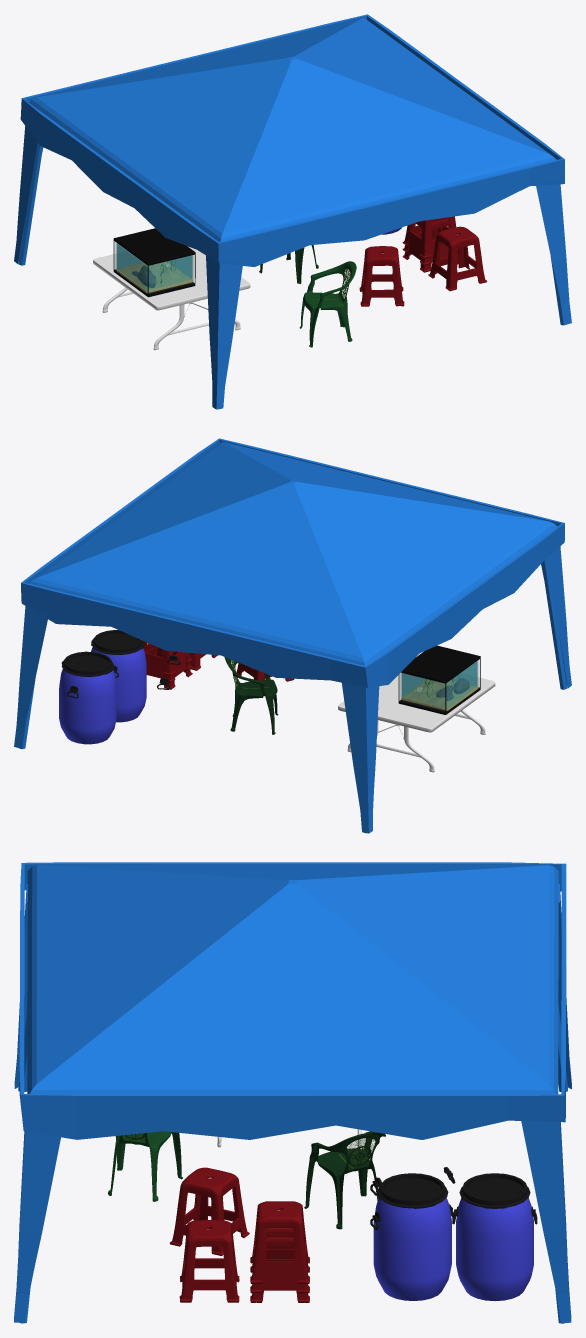
The model's file is kios-1.glb.
3 views of the same model, one above another, from view 1: azimuth 30°, elevation 25°; view 2: azimuth 150°, elevation 25°; view 3: azimuth 270°, elevation 25° (orthographic). The views are drawn at different scales.
Parts seen in each view (by area): view 1: Cube.001_0.007, defaultMaterial.159, Object_2.893, polySurface35_phongE1_0.020, polySurface35_phong1_0.020, polySurface35_phong2_0.020, Object_4.035, Object_2.892, polySurface35_lambert4_0.020, Object_2.894, Object_2.896; view 2: Cube.001_0.007, defaultMaterial.156, defaultMaterial.159, polySurface35_phongE1_0.020, polySurface35_phong1_0.020, defaultMaterial.147, polySurface35_phong2_0.020, Object_4.034, polySurface35_lambert4_0.020, defaultMaterial.158, defaultMaterial.145, Object_2.894; view 3: Cube.001_0.007, defaultMaterial.156, defaultMaterial.147, Object_2.892, Object_2.893, Object_2.894, Object_4.034, defaultMaterial.158, defaultMaterial.145, Object_4.035, Object_2.895, Object_2.896.
Part boxes in pixels (x1,y1,x2,y2): Cube.001_0.007: (14, 14, 571, 409); defaultMaterial.159: (93, 246, 250, 350); Object_2.893: (428, 226, 486, 291); polySurface35_phongE1_0.020: (113, 228, 195, 297); polySurface35_phong1_0.020: (115, 242, 194, 293); polySurface35_phong2_0.020: (116, 243, 192, 290); Object_4.035: (299, 261, 356, 347); Object_2.892: (359, 246, 404, 306); polySurface35_lambert4_0.020: (116, 261, 192, 293); Object_2.894: (402, 216, 458, 258); Object_2.896: (402, 219, 458, 272); Cube.001_0.007: (14, 438, 571, 833); defaultMaterial.156: (59, 669, 116, 744); defaultMaterial.159: (338, 672, 495, 772); polySurface35_phongE1_0.020: (398, 645, 480, 714); polySurface35_phong1_0.020: (400, 660, 479, 710); defaultMaterial.147: (91, 647, 146, 722); polySurface35_phong2_0.020: (401, 661, 477, 708); Object_4.034: (224, 657, 278, 734); polySurface35_lambert4_0.020: (401, 679, 478, 710); defaultMaterial.158: (63, 651, 112, 674); defaultMaterial.145: (93, 630, 141, 652); Object_2.894: (143, 641, 192, 675); Cube.001_0.007: (14, 862, 571, 1323); defaultMaterial.156: (456, 1198, 533, 1300); defaultMaterial.147: (373, 1197, 451, 1300); Object_2.892: (169, 1167, 249, 1255); Object_2.893: (179, 1220, 239, 1302); Object_2.894: (250, 1201, 309, 1283); Object_4.034: (304, 1131, 385, 1229); defaultMaterial.158: (462, 1173, 527, 1205); defaultMaterial.145: (380, 1173, 445, 1205); Object_4.035: (108, 1131, 182, 1201); Object_2.895: (250, 1216, 309, 1293); Object_2.896: (250, 1237, 309, 1302).
Size of the model in its own units: 1.87 by 1.19 by 1.85.
